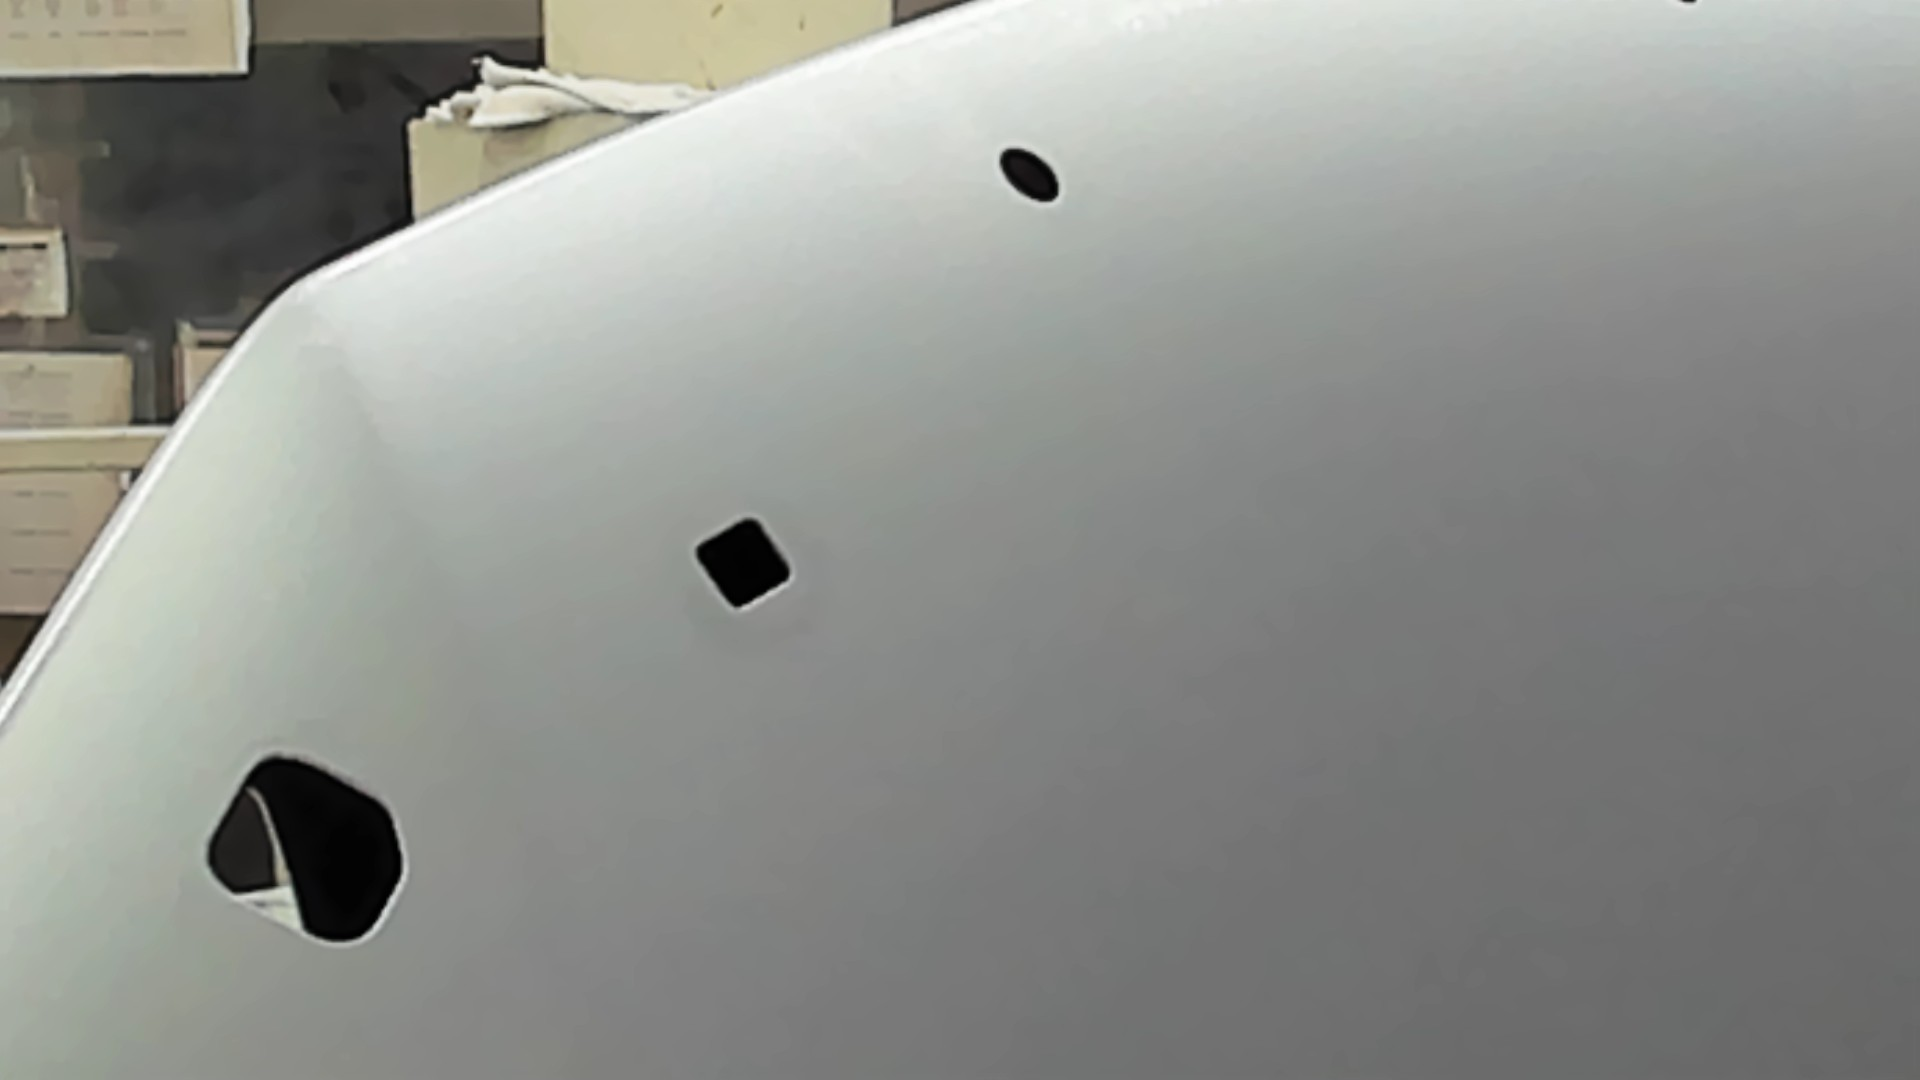chico: (996, 142, 1065, 208)
grande: (200, 744, 410, 956)
mediano: (688, 513, 798, 622)
